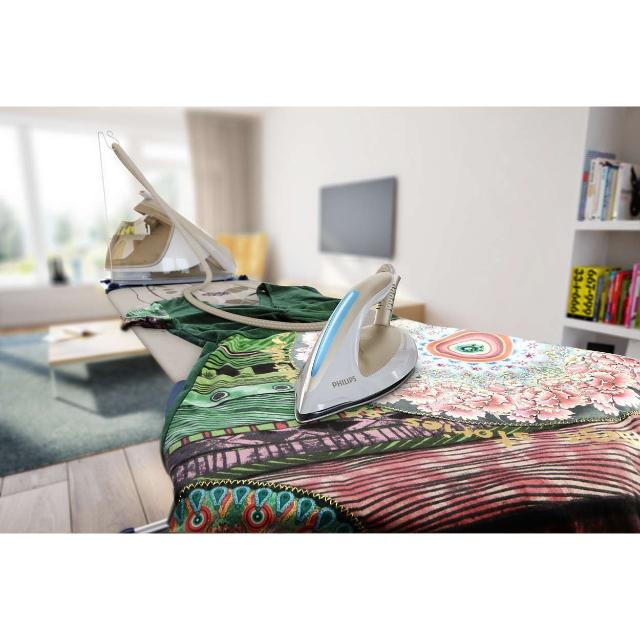Clothes-Iron: (282, 260, 430, 424)
